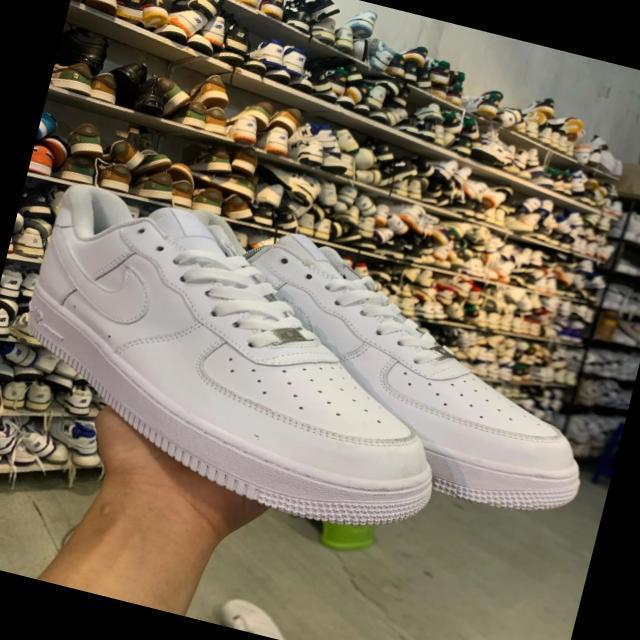nike fake air force: (0, 172, 490, 552), (146, 205, 627, 528)
